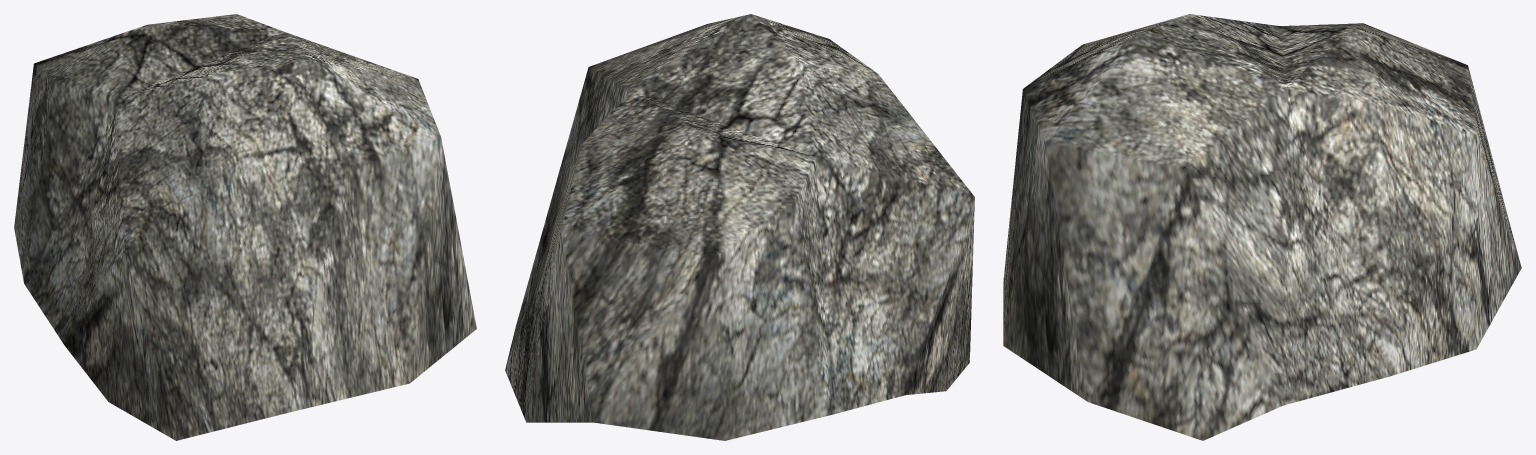
Rendered from RockTop-2.fbx.
The picture shows the model from 3 angles, left to right: view 1: azimuth 30°, elevation 25°; view 2: azimuth 150°, elevation 25°; view 3: azimuth 270°, elevation 25°; orthographic projection. The views are drawn at different scales.
Parts seen in each view (by area): view 1: pCube1; view 2: pCube1; view 3: pCube1.
Boxes of the visible parts, x1=… form: pCube1: x1=14, y1=14, x2=476, y2=440; pCube1: x1=505, y1=14, x2=974, y2=440; pCube1: x1=1003, y1=14, x2=1521, y2=440.
Size of the model in its own units: 16.82 by 13.59 by 19.63.
1 material, 1 textured.
